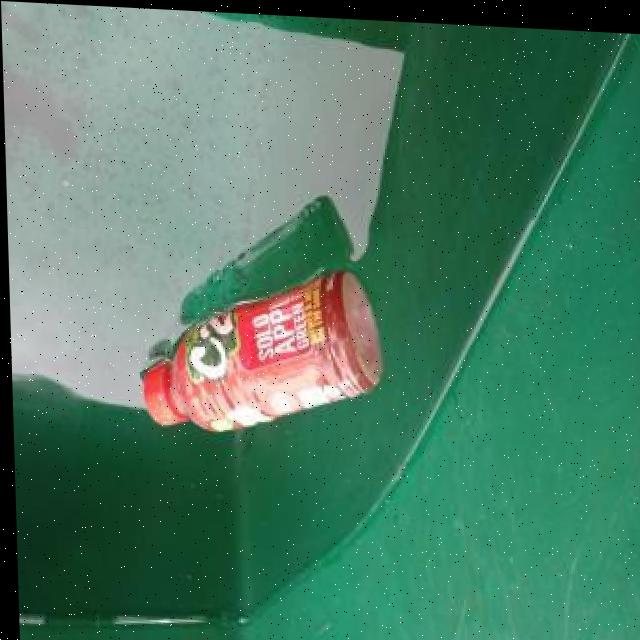bottle: (137, 254, 383, 440)
